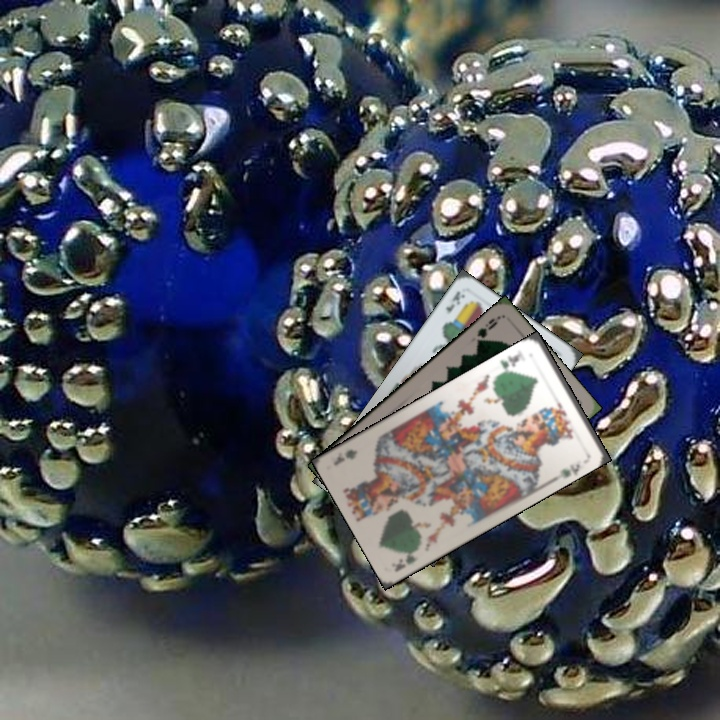EK: (441, 287, 468, 317)
G9: (473, 312, 502, 348)
GK: (388, 548, 418, 574), (496, 350, 523, 377)
